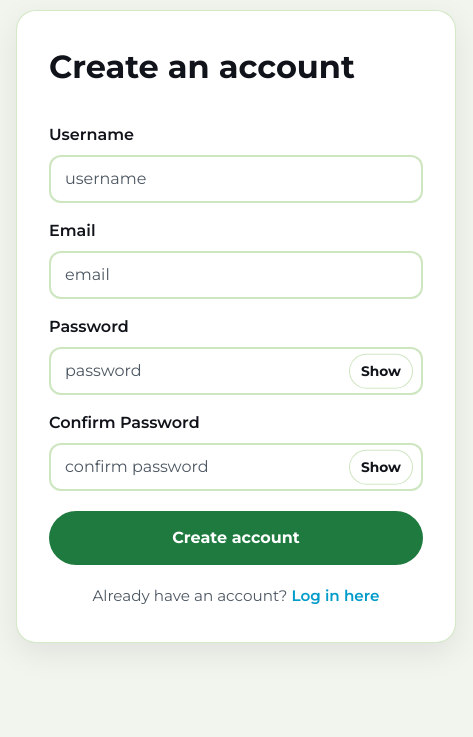
it: Signup page and form › shows a generic error when verification code request rejects with a non-error value
The width and height of the screenshot is (473, 737).
Step 1. Type "victor" into the field labelled "Username" → (236, 179), box [49,155,423,203]
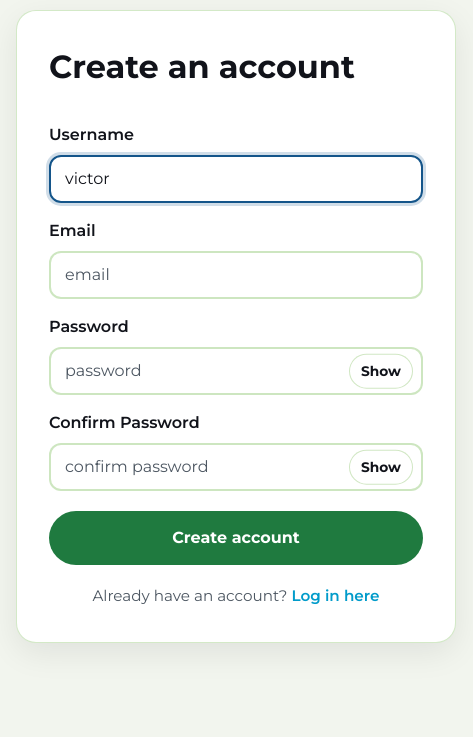
Step 2. Type "victor@example.com" into the field labelled "Email" → (236, 275), box [49,251,423,299]
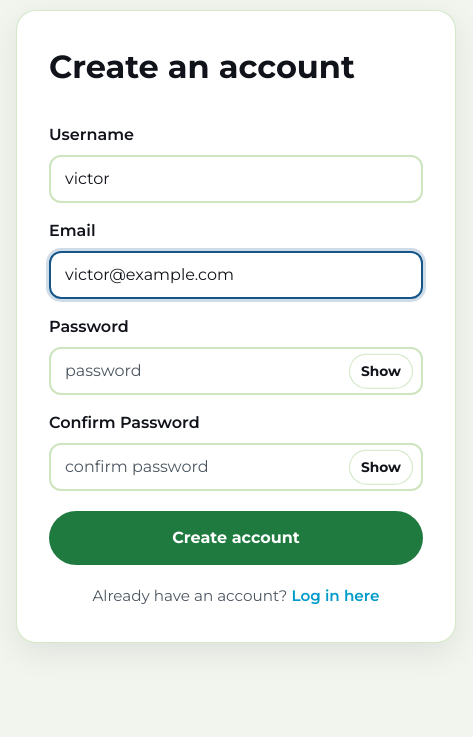
Step 3. Type "password123" into the password field labelled "Password" → (236, 371), box [49,347,423,395]
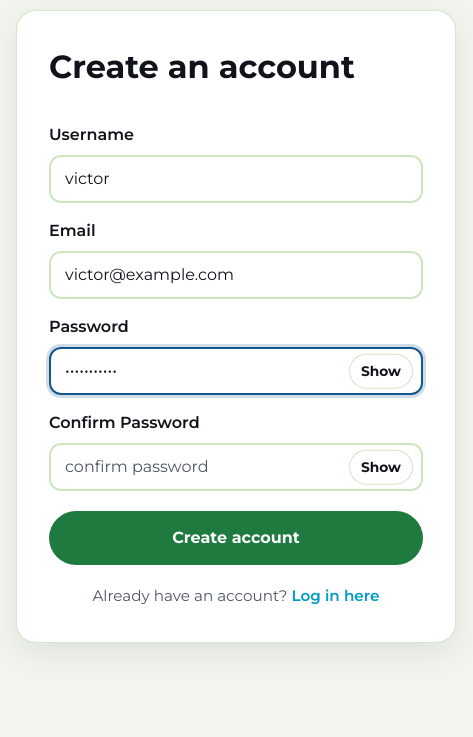
Step 4. Type "password123" into the password field labelled "Confirm Password" → (236, 467), box [49,443,423,491]
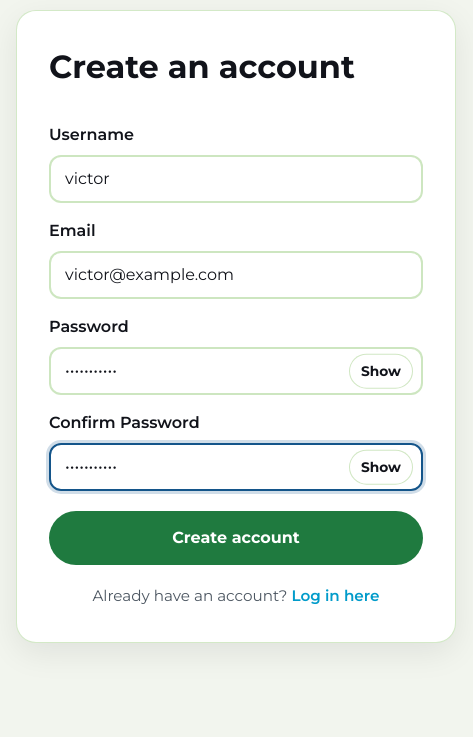
Step 5. Click the button "Create account" → (236, 538), box [49,511,423,565]
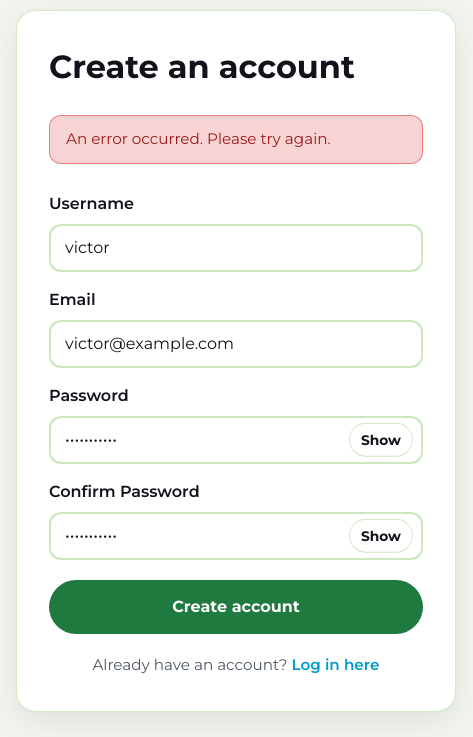
Expected: the text "An error occurred. Please try again." is shown, [49,115,423,164]
